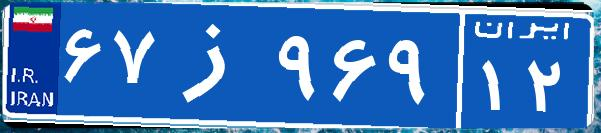1: (475, 38, 525, 113)
2: (525, 38, 570, 115)
6: (330, 28, 385, 110), (57, 26, 110, 107)
7: (110, 28, 158, 105)
9: (385, 28, 445, 110), (273, 28, 330, 110)
ز: (158, 15, 273, 115)
